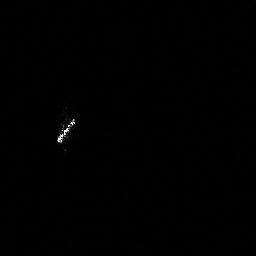ship: (57, 117, 77, 146)
